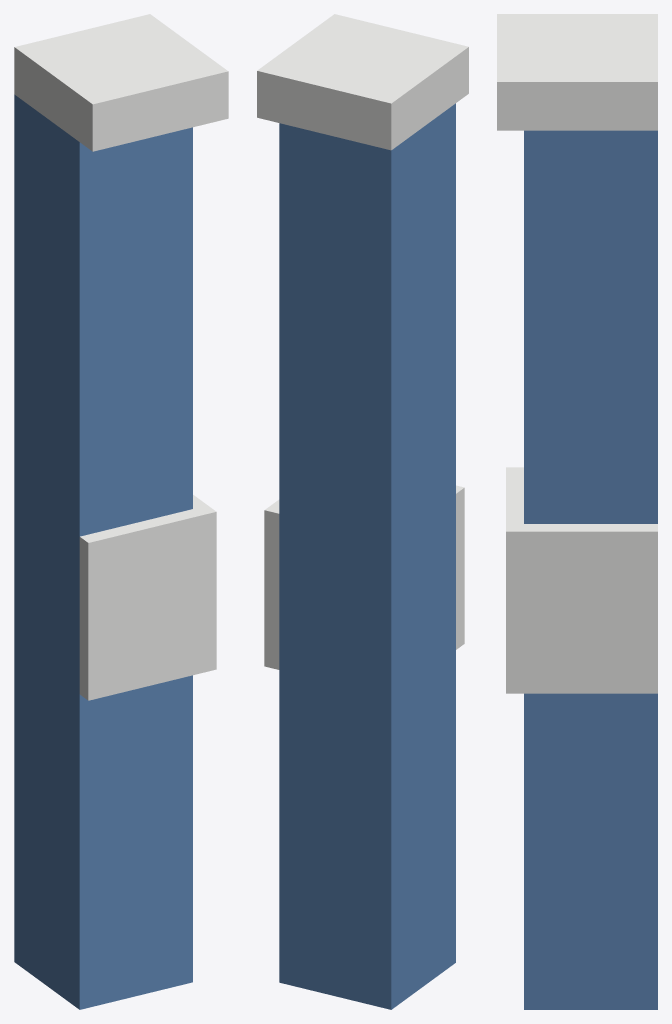
Rendered from canopy_fascia_corner.glb.
3 views of the same model, side by side, from view 1: azimuth 30°, elevation 25°; view 2: azimuth 150°, elevation 25°; view 3: azimuth 270°, elevation 25° (orthographic). The views are drawn at different scales.
Parts seen in each view (by area): view 1: canopy_fascia_corner_band, canopy_fascia_corner_trim; view 2: canopy_fascia_corner_band, canopy_fascia_corner_trim; view 3: canopy_fascia_corner_band, canopy_fascia_corner_trim.
Boxes of the visible parts, left/top/right/bottom form: canopy_fascia_corner_band: left=14, top=94, right=192, bottom=1009; canopy_fascia_corner_trim: left=14, top=14, right=228, bottom=700; canopy_fascia_corner_band: left=279, top=103, right=455, bottom=1009; canopy_fascia_corner_trim: left=257, top=14, right=468, bottom=669; canopy_fascia_corner_band: left=524, top=130, right=657, bottom=1009; canopy_fascia_corner_trim: left=497, top=14, right=657, bottom=693.
Size of the model in its own units: 0.18 by 1.16 by 0.18.
